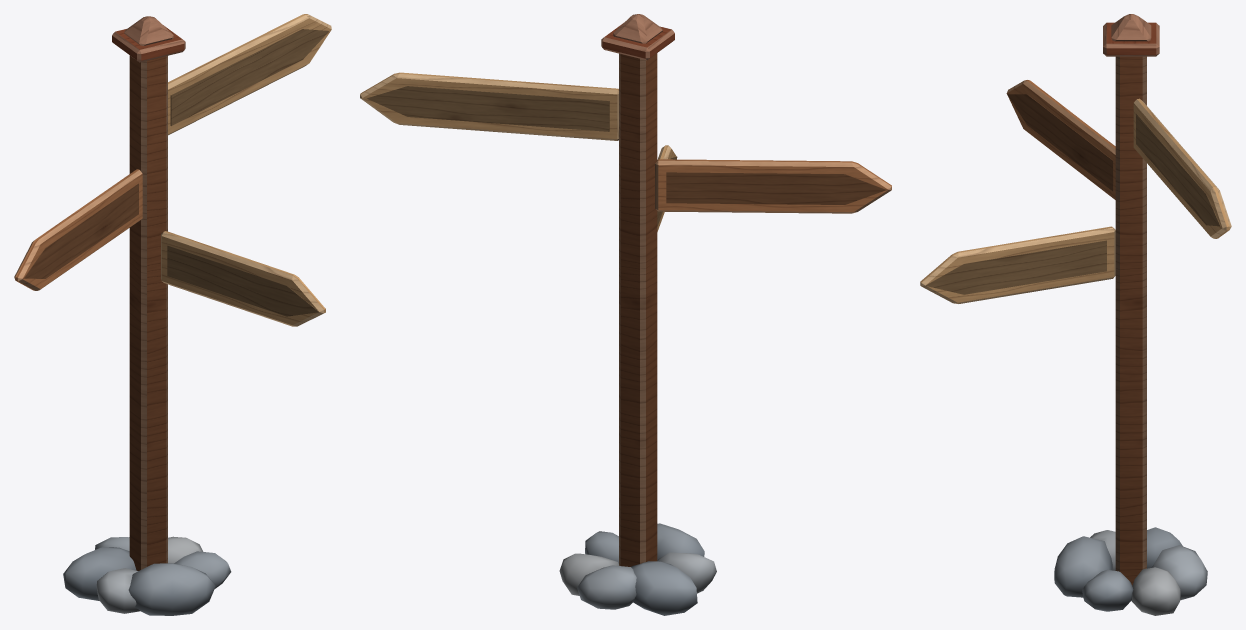
The model's file is signpost.glb.
The picture shows the model from 3 angles, left to right: view 1: azimuth 30°, elevation 25°; view 2: azimuth 150°, elevation 25°; view 3: azimuth 270°, elevation 25°; orthographic projection.
Parts seen in each view (by area): view 1: post; view 2: post; view 3: post.
Boxes of the visible parts, x1,y1,x2,y2 form: post: (14,14,331,615); post: (360,14,891,615); post: (920,14,1231,615).
Bounding box in the file's own units: 1.73 × 2.27 × 1.1.
3 materials, 2 textured.
